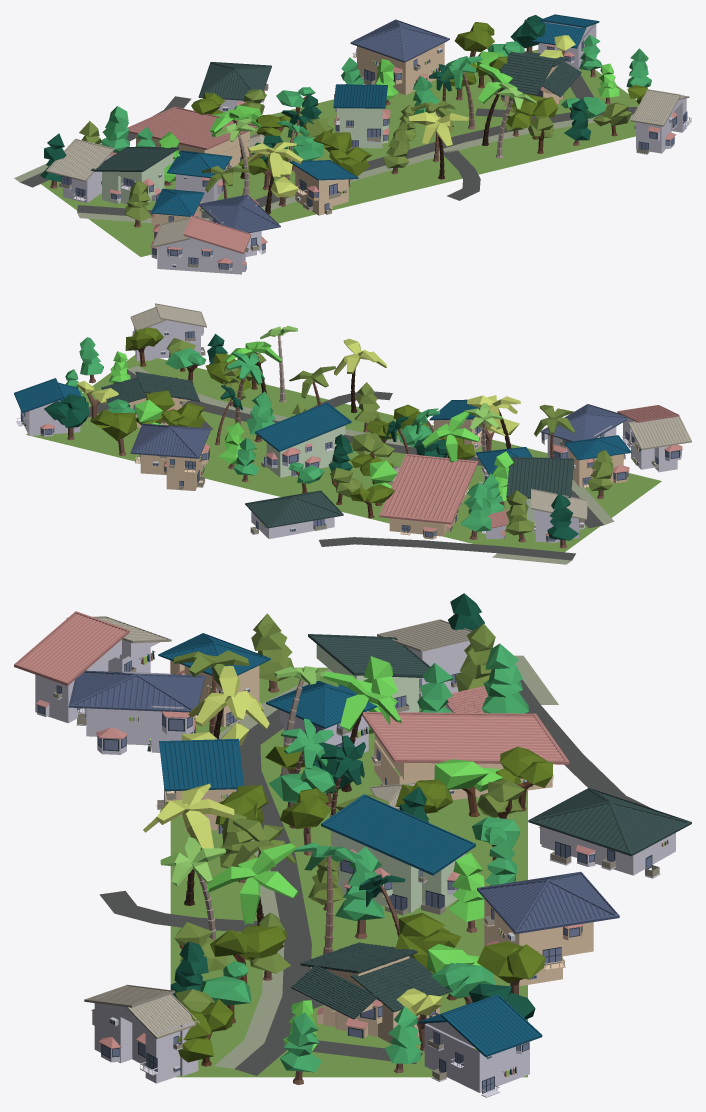
File: QC_Env5.fbx
3 views of the same model, one above another, from view 1: azimuth 30°, elevation 25°; view 2: azimuth 150°, elevation 25°; view 3: azimuth 270°, elevation 25° (orthographic). The views are drawn at different scales.
Visible parts, largest first — view 1: QC_Env5; view 2: QC_Env5; view 3: QC_Env5.
Boxes of the visible parts, left/top/right/bottom form: QC_Env5: left=14, top=14, right=691, bottom=274; QC_Env5: left=14, top=303, right=691, bottom=564; QC_Env5: left=14, top=593, right=691, bottom=1097.
Size of the model in its own units: 8604 by 1105 by 5594.
